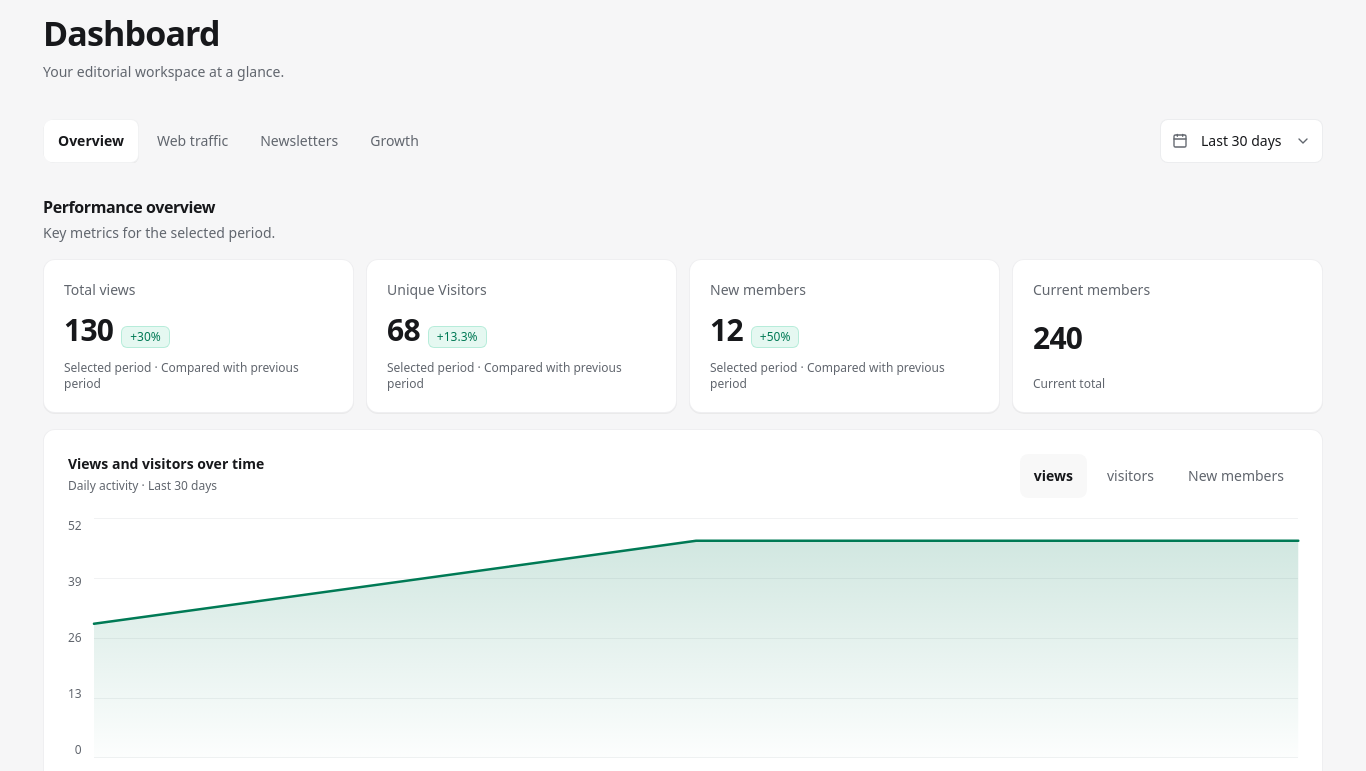
Test: AnalyticsDashboard clarity and accessible chart › filters pages and posts using the API singular content types
Click the tab "Web traffic": (193, 141) [143,119,242,163]
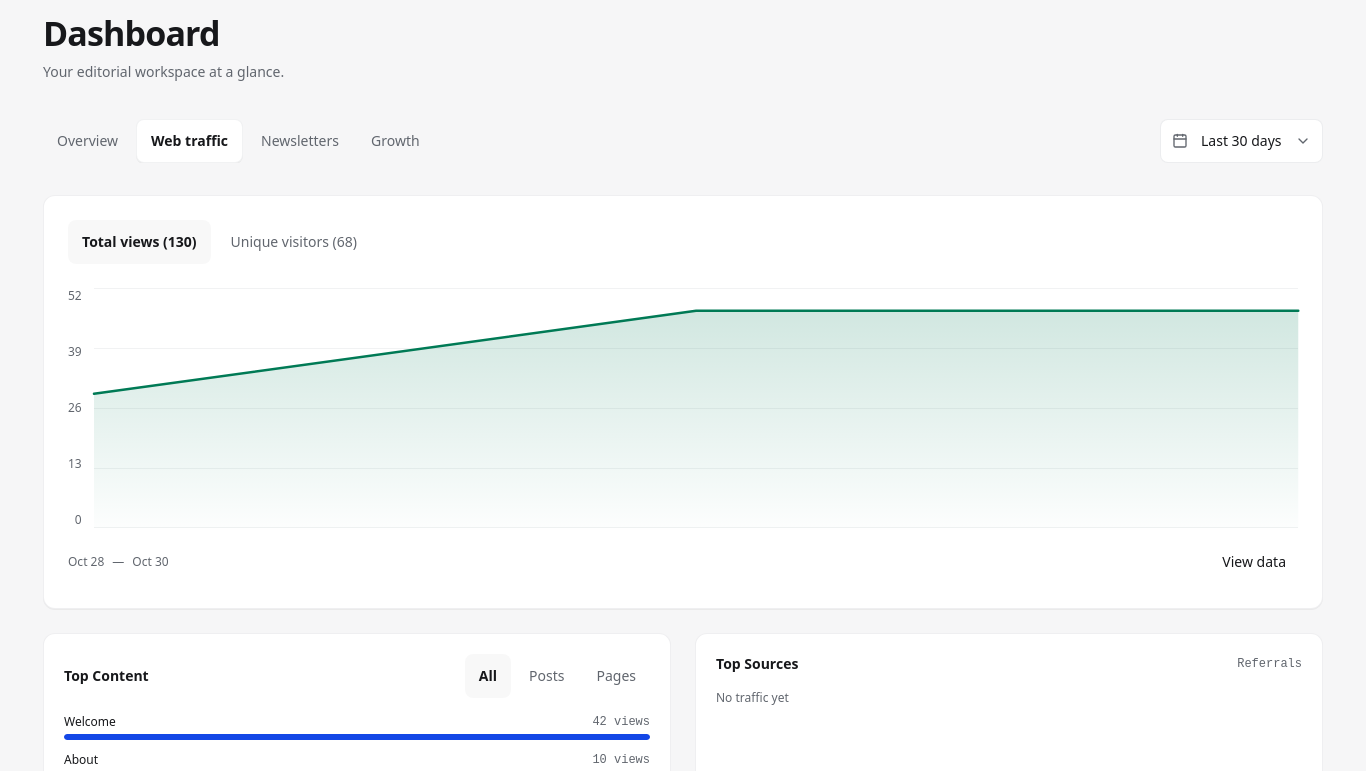
Click the button "Pages": (616, 676) [582,654,650,698]
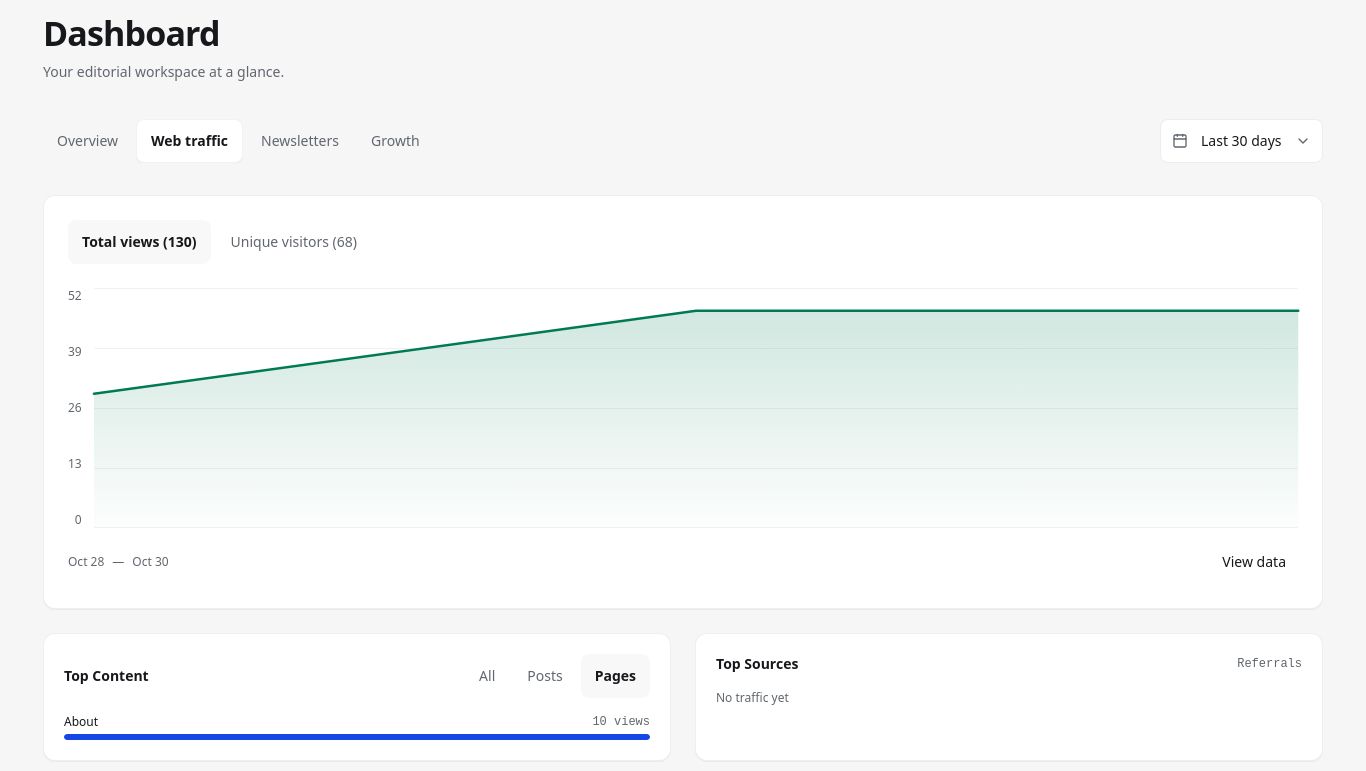
Expected: the text "About" is shown, [64,714,98,730]
Expected: the link to "/posts/welcome" is gone
